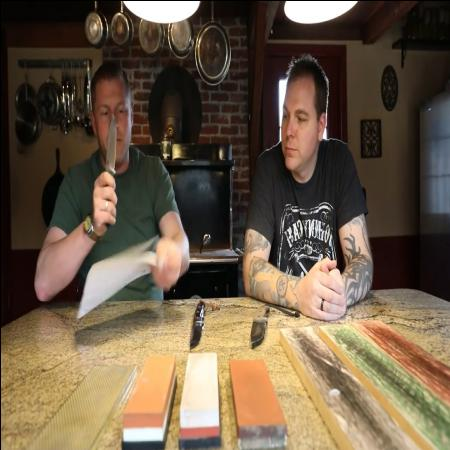long weapon: (90, 100, 118, 221)
